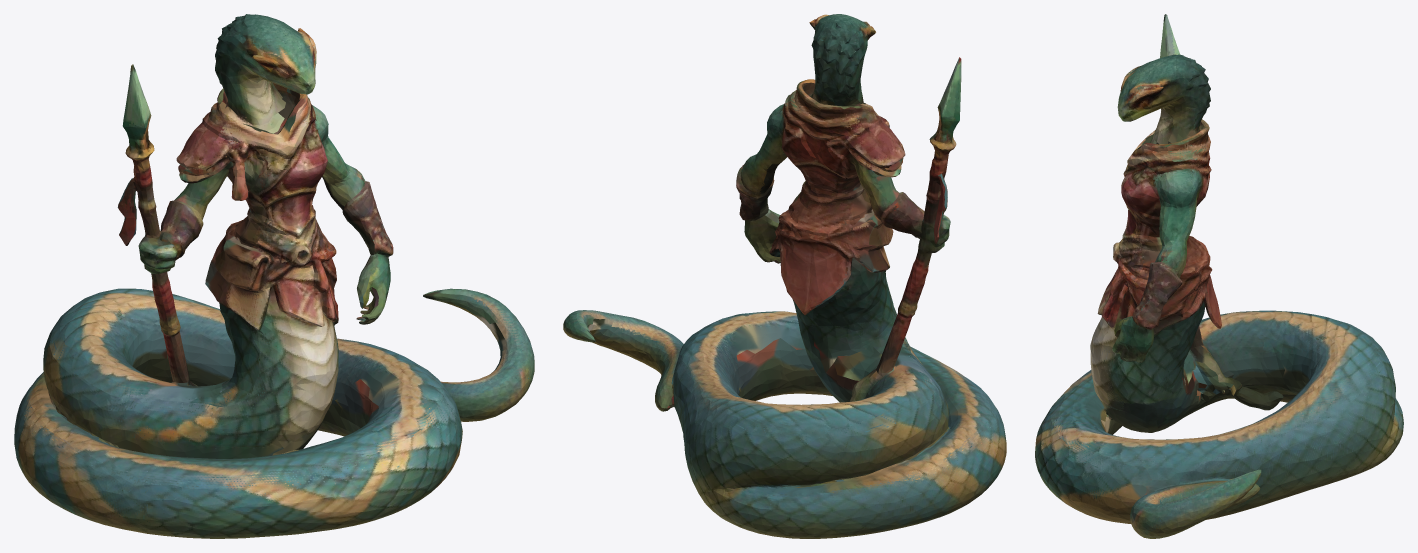
File: naga_scout.glb
3 views of the same model, side by side, from view 1: azimuth 30°, elevation 25°; view 2: azimuth 150°, elevation 25°; view 3: azimuth 270°, elevation 25° (orthographic). The views are drawn at different scales.
Visible parts, largest first — view 1: temp_mesh.ply; view 2: temp_mesh.ply; view 3: temp_mesh.ply.
Boxes of the visible parts, bbox=[...] form: temp_mesh.ply: bbox=[14, 14, 534, 538]; temp_mesh.ply: bbox=[563, 14, 1006, 538]; temp_mesh.ply: bbox=[1035, 14, 1403, 538].
Bounding box in the file's own units: 1.97 × 1.89 × 1.55.
Materials: 1 (1 with a texture image).
